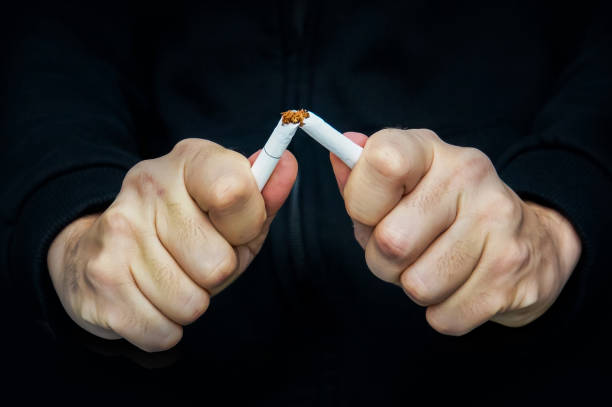cigarette: (293, 106, 365, 173), (250, 108, 303, 194)
